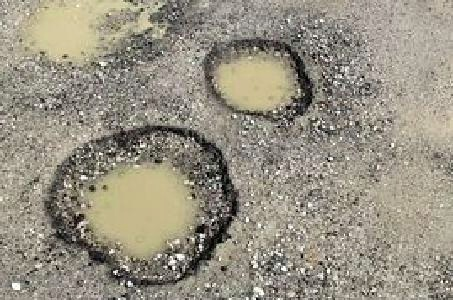pothole: (40, 120, 244, 289), (13, 0, 176, 72), (199, 34, 314, 119)
